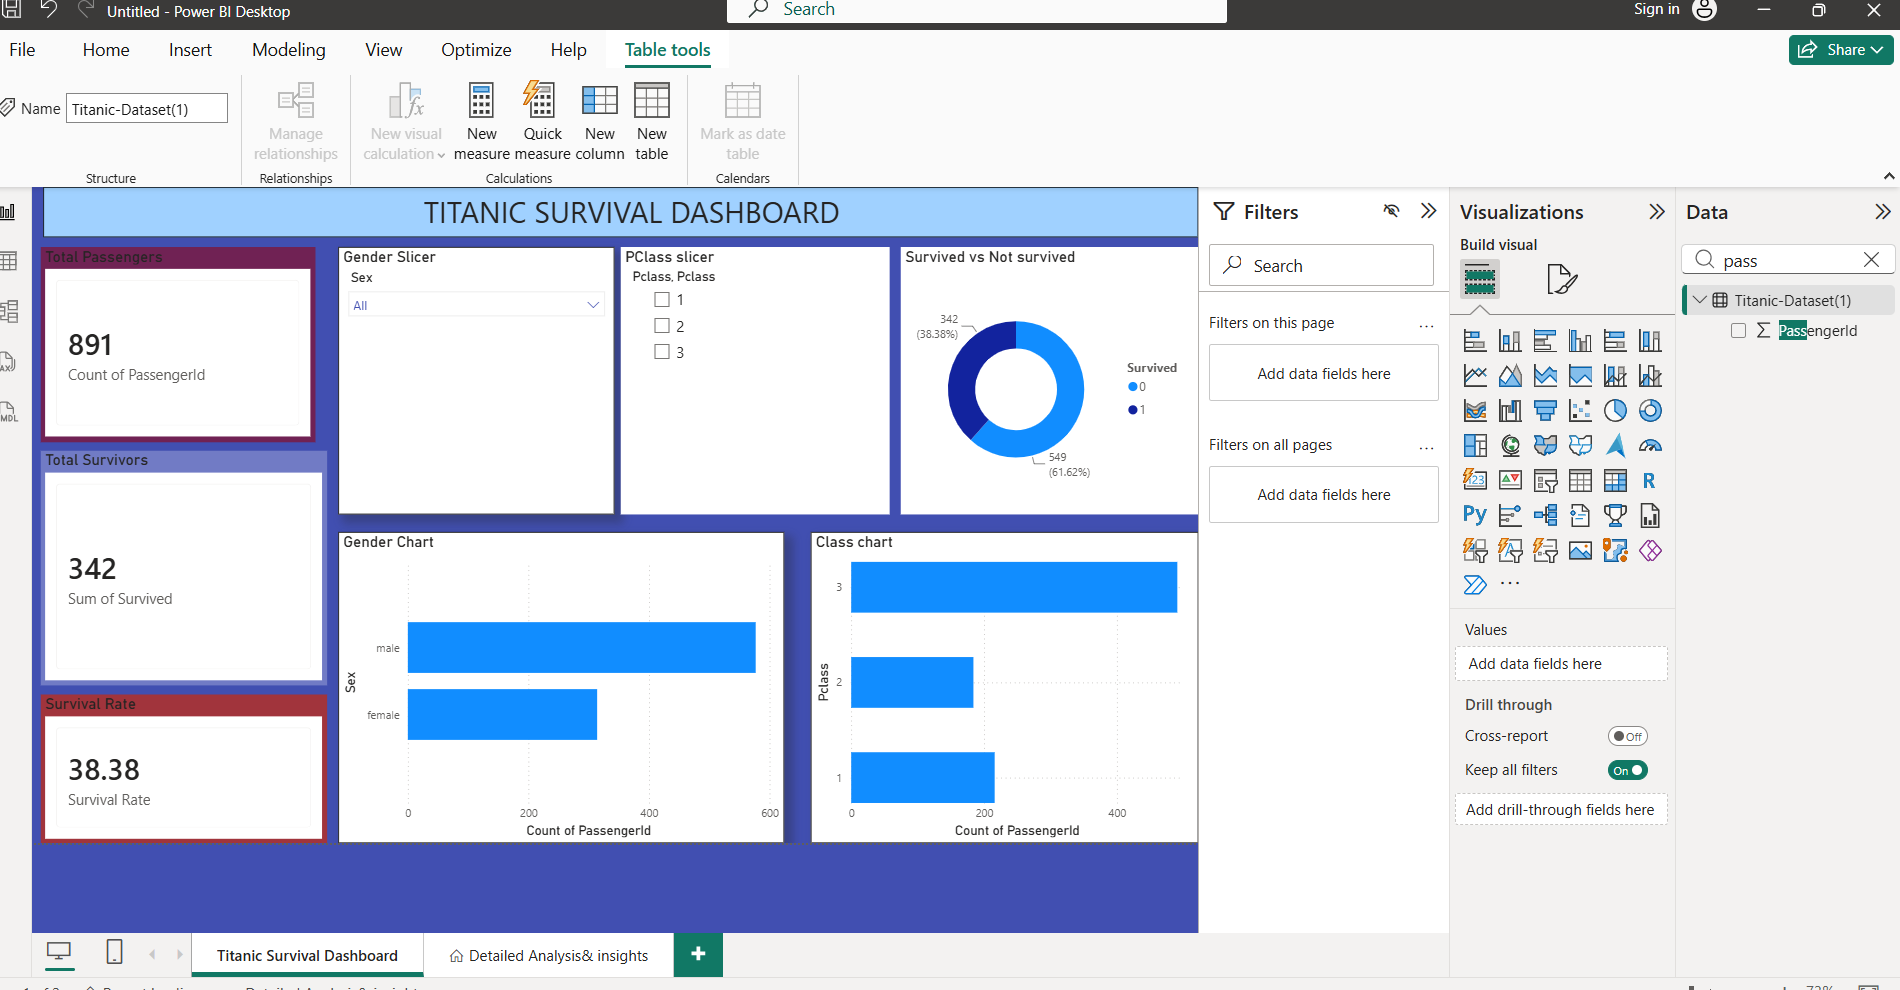

The page's visual inventory and layout, read from the dashboard file:
{"tool":"powerbi","page":{"name":"Titanic Survival Dashboard","canvas":[1280,720],"ordinal":0},"visuals":[{"type":"cardVisual","title":"Total Passengers","fields":{"Data":["CountNonNull(Titanic-Dataset(1).PassengerId)"]},"box":[9.6,65.9,301.9,214.1],"z":0},{"type":"cardVisual","title":"Total Survivors","fields":{"Data":["Sum(Titanic-Dataset(1).Survived)"]},"box":[9.6,289.5,314.2,258],"z":1},{"type":"cardVisual","title":"Survival Rate","fields":{"Data":["Titanic-Dataset(1).Survival Rate"]},"box":[9.6,557.1,314.2,163.3],"z":2},{"type":"slicer","title":"Gender Slicer","fields":{"Values":["Titanic-Dataset(1).Sex"]},"box":[336.2,65.9,303.3,293.7],"z":3},{"type":"slicer","title":"PClass slicer","fields":{"Values":["Titanic-Dataset(1).Pclass","Titanic-Dataset(1).Pclass"]},"box":[646.3,65.9,295,293.7],"z":4},{"type":"donutChart","title":"Survived vs Not survived","fields":{"Category":["Titanic-Dataset(1).Survived"],"Y":["CountNonNull(Titanic-Dataset(1).PassengerId)"]},"box":[953.7,65.9,326.6,293.7],"z":5},{"type":"barChart","title":"Gender Chart","fields":{"Category":["Titanic-Dataset(1).Sex"],"Y":["CountNonNull(Titanic-Dataset(1).PassengerId)"]},"box":[336.2,378.7,489.9,341.7],"z":6},{"type":"barChart","title":"Class chart","fields":{"Category":["Titanic-Dataset(1).Pclass"],"Y":["CountNonNull(Titanic-Dataset(1).PassengerId)"]},"box":[854.9,378.7,425.4,341.7],"z":7},{"type":"textbox","box":[12.3,0,1267.9,54.9],"z":8}]}

Visuals, with their boxes on the page's 1280x720 design canvas (x1, y1, x2, y2). These are canvas units, not pixel positions in the 1900x990 screenshot, which may show the page scaled, cropped or inside an application window:
"Total Passengers" cardVisual: bbox(10, 66, 312, 280)
"Total Survivors" cardVisual: bbox(10, 290, 324, 548)
"Survival Rate" cardVisual: bbox(10, 557, 324, 720)
"Gender Slicer" slicer: bbox(336, 66, 640, 360)
"PClass slicer" slicer: bbox(646, 66, 941, 360)
"Survived vs Not survived" donutChart: bbox(954, 66, 1280, 360)
"Gender Chart" barChart: bbox(336, 379, 826, 720)
"Class chart" barChart: bbox(855, 379, 1280, 720)
textbox: bbox(12, 0, 1280, 55)
